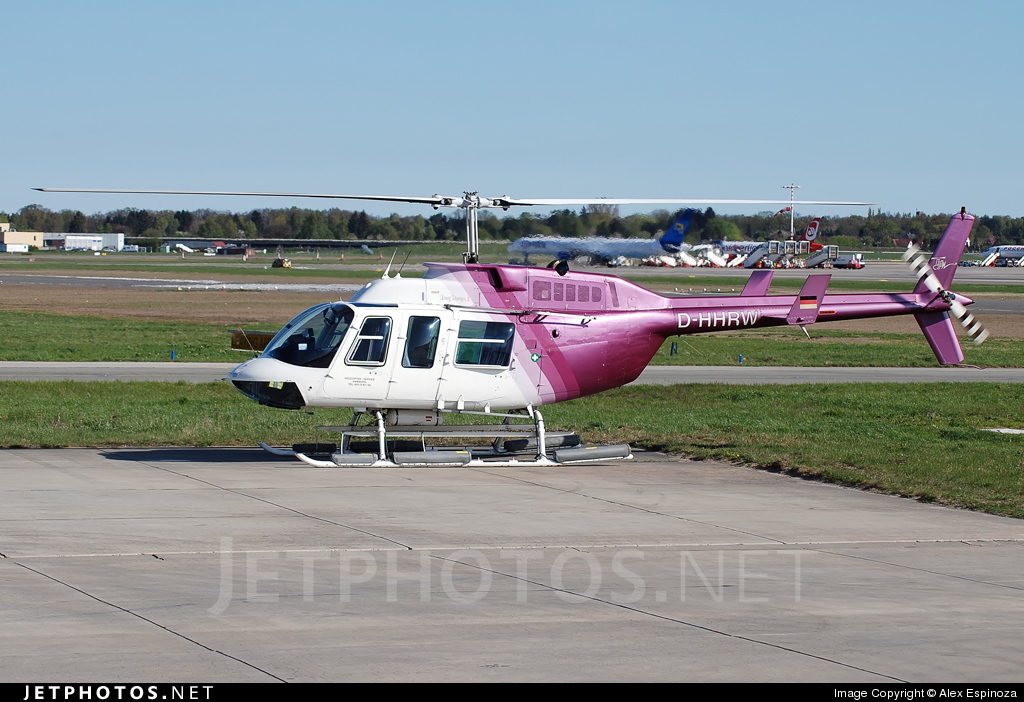number: (676, 309, 760, 326)
